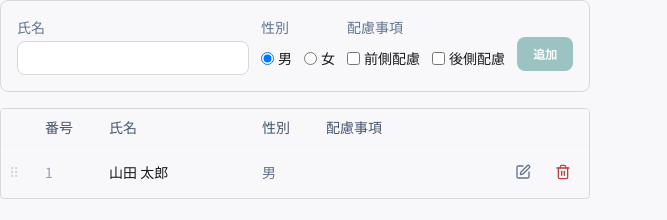
Test case: StudentTable › 編集ボタンでインライン編集できる
This screenshot has width=667, height=220.
// 編集ボタンをクリック
Click the button named "を編集" at (523, 172), box [505,154,541,190]
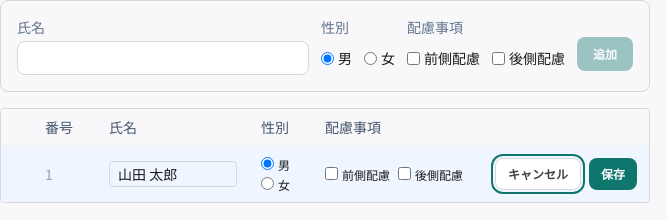
// 名前フィールドが編集可能になる
Replace the text in the field showing "山田 太郎" with "田中 次郎" at (173, 174), box [109,161,237,187]
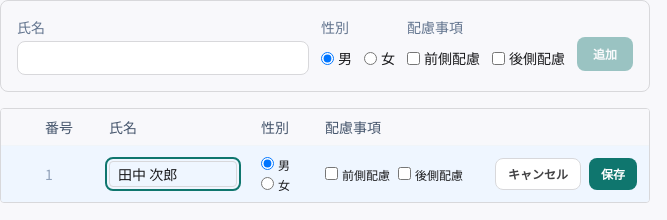
Click the button "保存" at (613, 174), box [589,158,637,190]
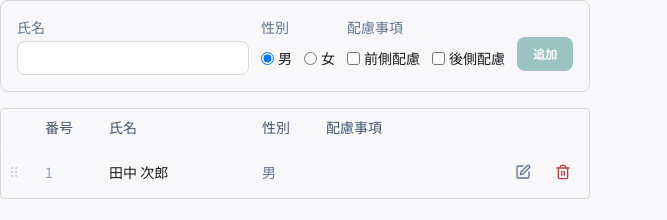
Expected: the cell "田中 次郎" is shown, [97,146,250,198]
Expected: the button "保存" is gone
